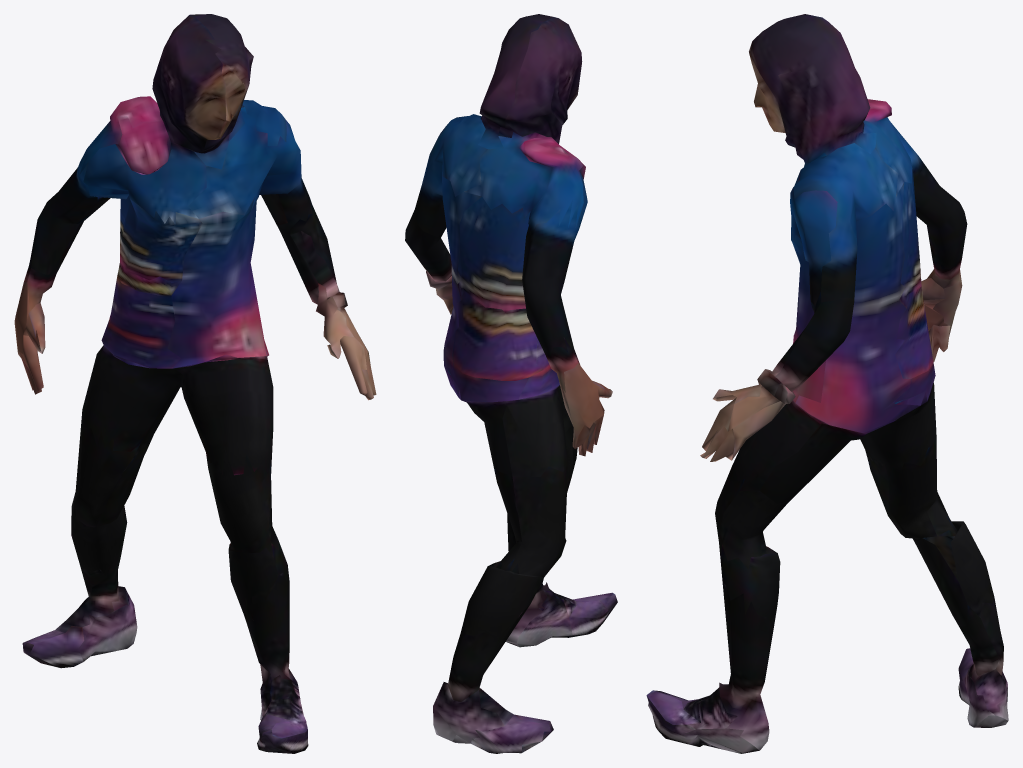
The model's file is half_3_idle_lod2.glb.
3 views of the same model, side by side, from view 1: azimuth 30°, elevation 25°; view 2: azimuth 150°, elevation 25°; view 3: azimuth 270°, elevation 25° (orthographic). The views are drawn at different scales.
Visible parts, largest first — view 1: Idle; view 2: Idle; view 3: Idle.
Boxes of the visible parts, x1,y1,x2,y2 form: Idle: [14, 14, 376, 753]; Idle: [405, 14, 617, 753]; Idle: [646, 14, 1008, 753].
Bounding box in the file's own units: 37.08 × 94.91 × 44.01.
1 material, 1 textured.
